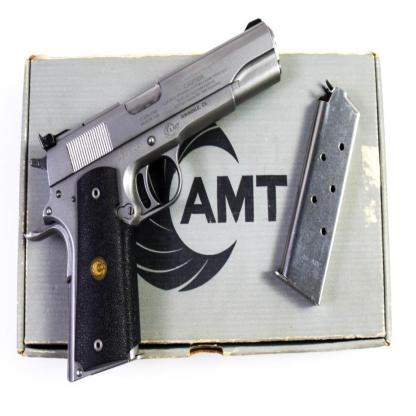handgun: (24, 16, 282, 382)
